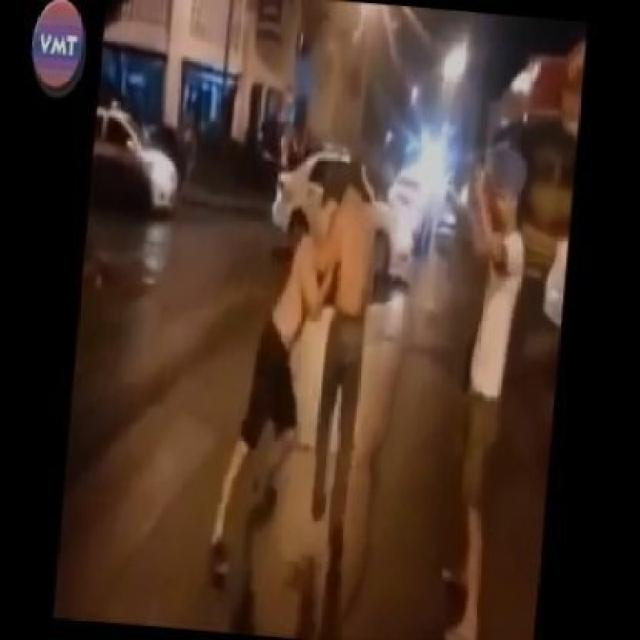fight: (202, 171, 387, 593)
non-fight: (419, 138, 537, 638)
